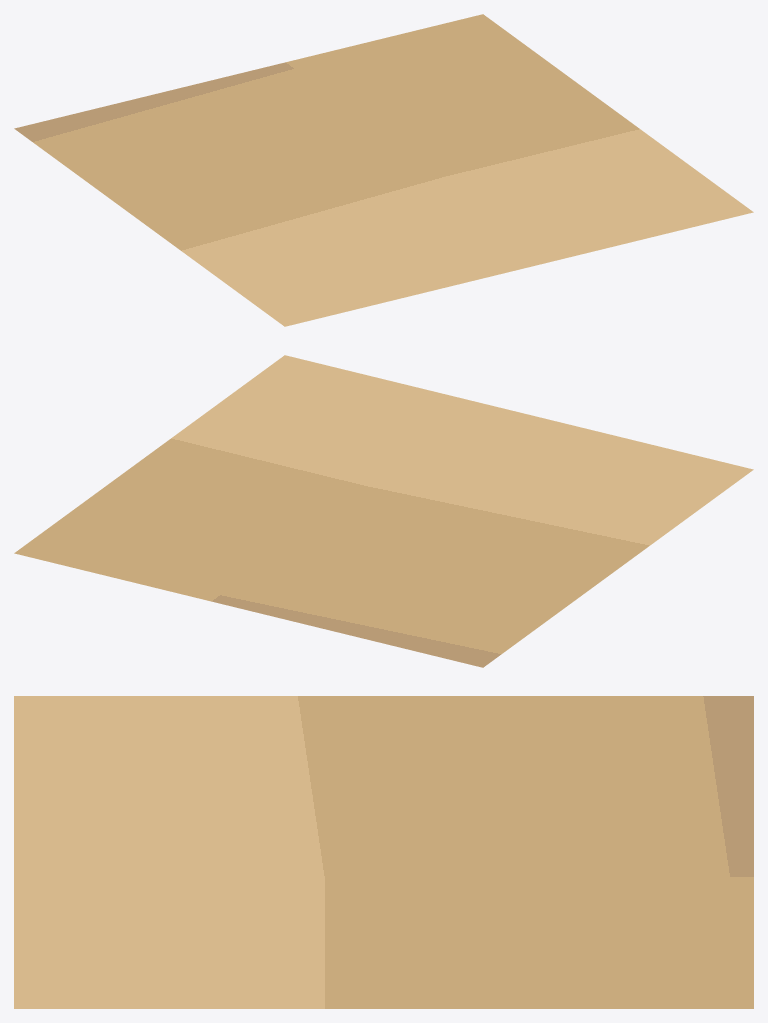
The picture shows the model from 3 angles, top to bottom: view 1: azimuth 30°, elevation 25°; view 2: azimuth 150°, elevation 25°; view 3: azimuth 270°, elevation 25°; orthographic projection. The views are drawn at different scales.
Size of the model in its own units: 1 by 0 by 1.
1 material, 1 textured.
